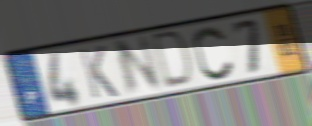4: (46, 48, 83, 109)
7: (229, 16, 264, 75)
C: (191, 24, 237, 81)
D: (151, 28, 196, 92)
K: (76, 44, 121, 102)
N: (112, 32, 164, 100)
